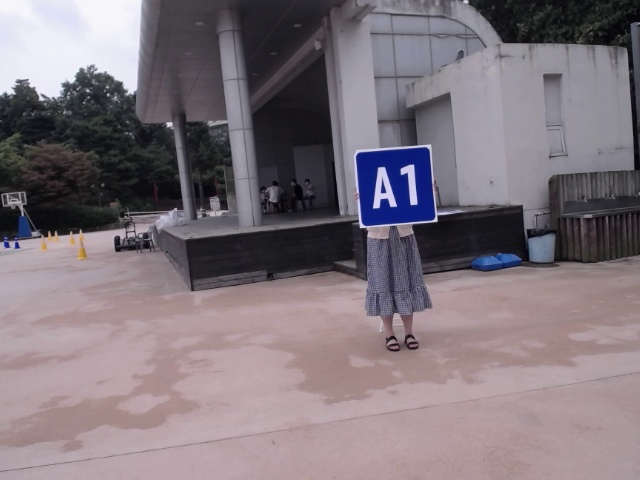delivery_a1: (355, 146, 437, 227)
